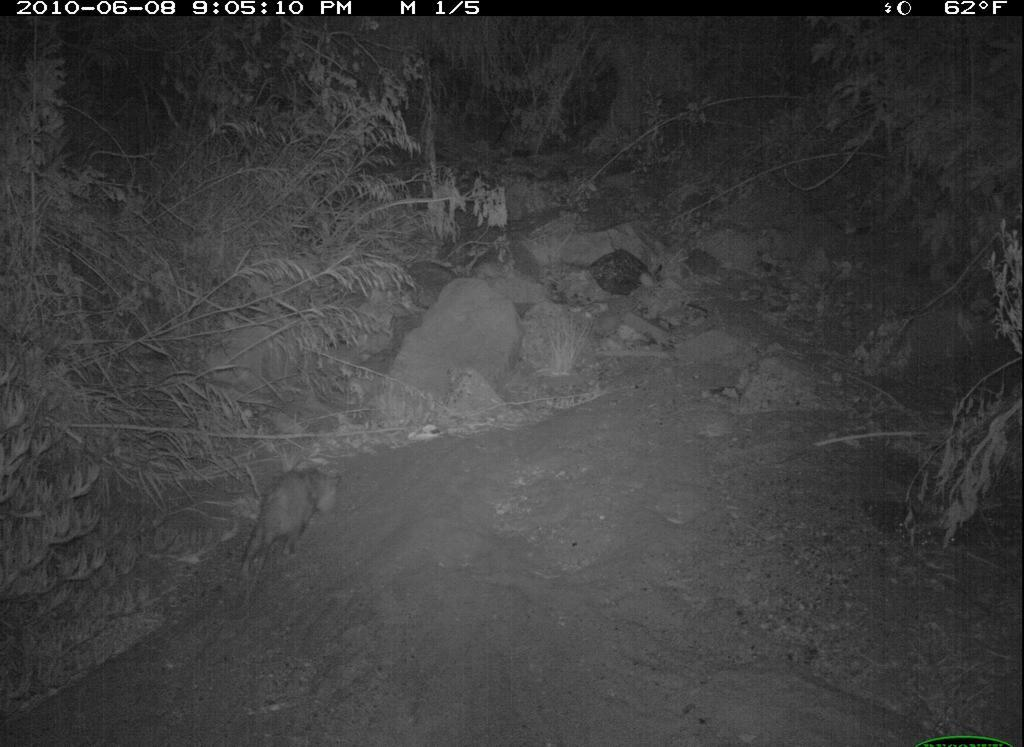opossum: (226, 440, 344, 578)
